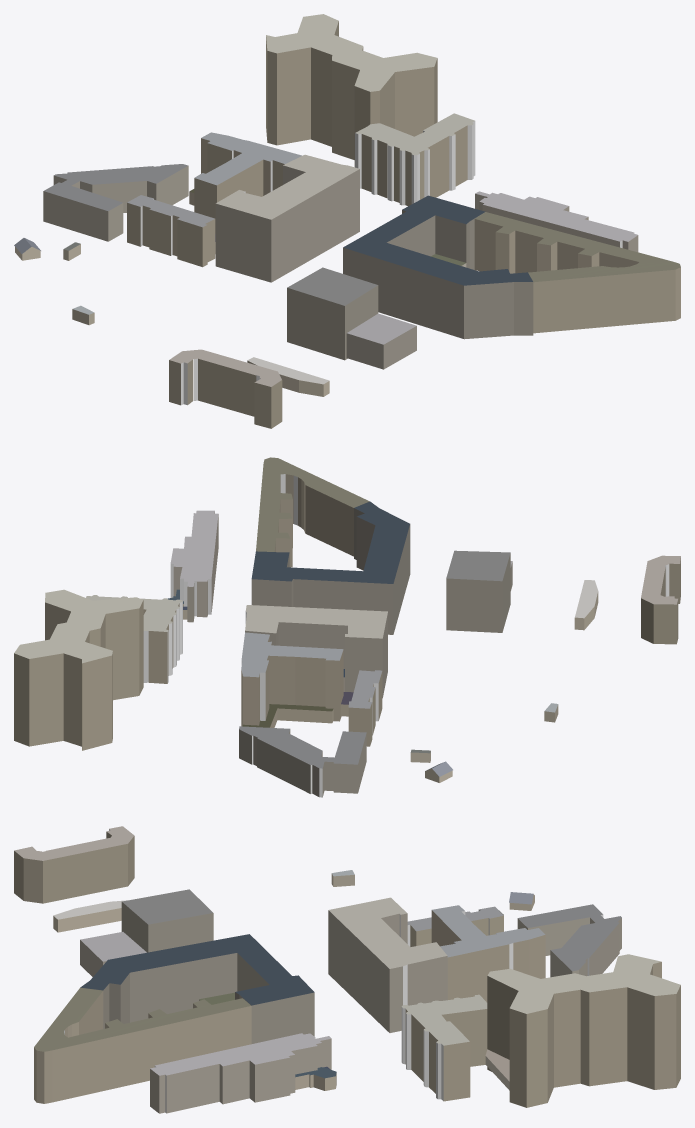
3 renders of one model, top to bottom at view 1: azimuth 30°, elevation 25°; view 2: azimuth 150°, elevation 25°; view 3: azimuth 270°, elevation 25°, orthographic. The views are drawn at different scales.
Visible parts, largest first — view 1: tuile; view 2: tuile; view 3: tuile.
Part boxes in pixels (left/top/right/bottom): tuile: left=14, top=14, right=680, bottom=428; tuile: left=14, top=457, right=680, bottom=797; tuile: left=14, top=826, right=680, bottom=1113.
Bounding box in the file's own units: 280 × 54.46 × 325.
